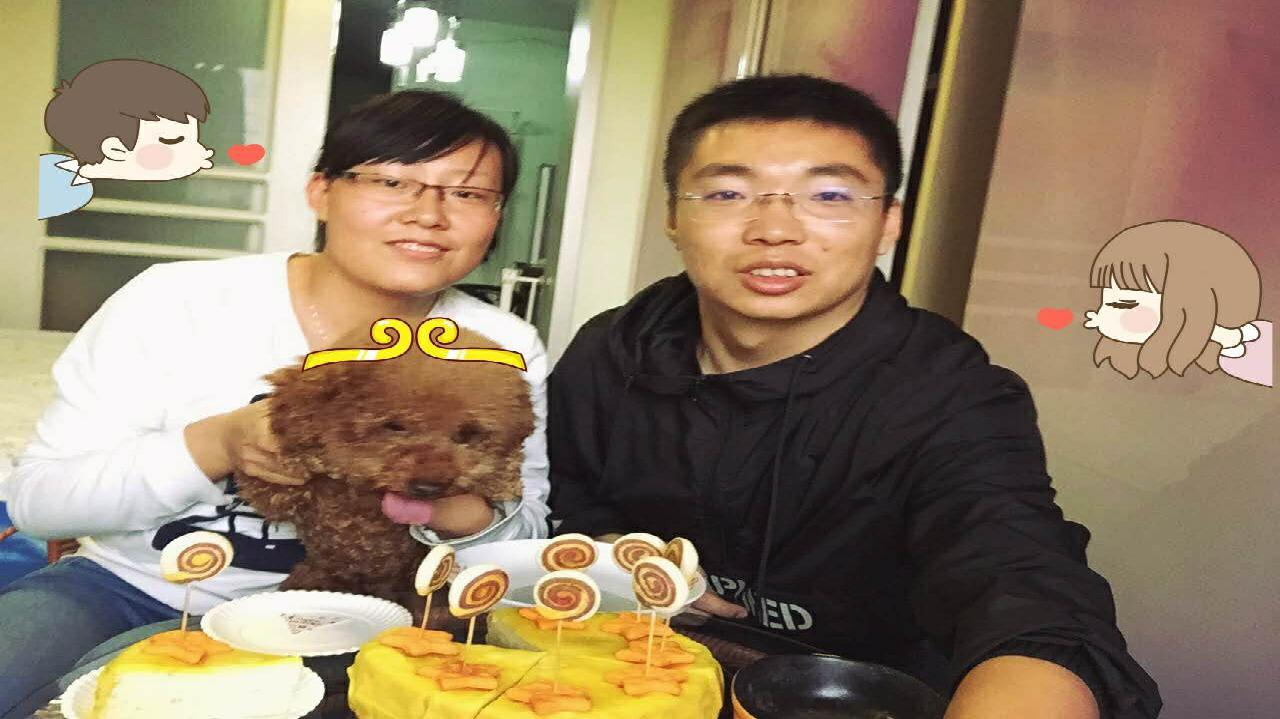zhuangzhuang: (256, 329, 523, 578)
